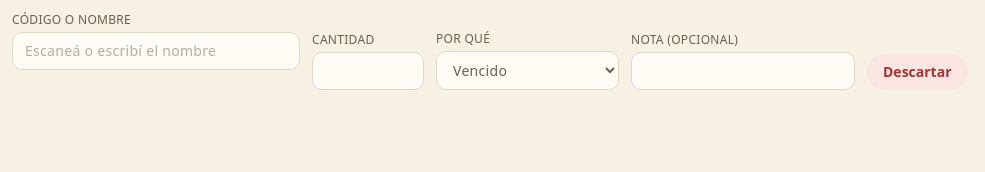
Test: FormularioDescarte › buscar por nombre deja cargado el código del elegido y pasa a la cantidad
The width and height of the screenshot is (985, 172).
In the field labelled "Código o nombre": x=156, y=51 [12,32,300,70], type "cucu"
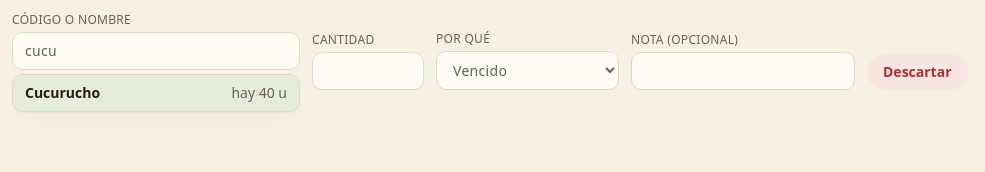
Press Enter in the field labelled "Código o nombre", box [12,32,300,70]
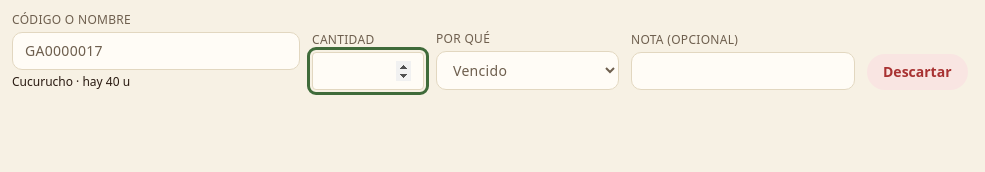
Expected: the text "Cucurucho · hay 40 u" is shown, [12,73,130,90]
In the number field labelled "Cantidad": x=368, y=71 [312,52,424,90], type "2"
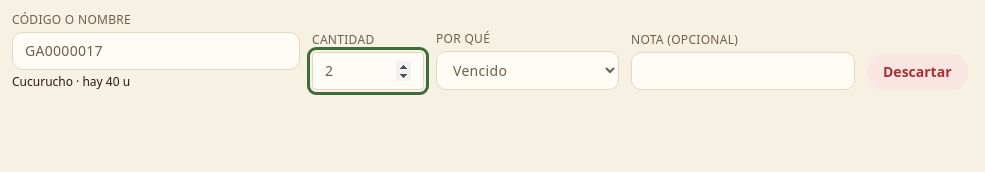
Submit the form "Descartar", box [12,11,968,90]
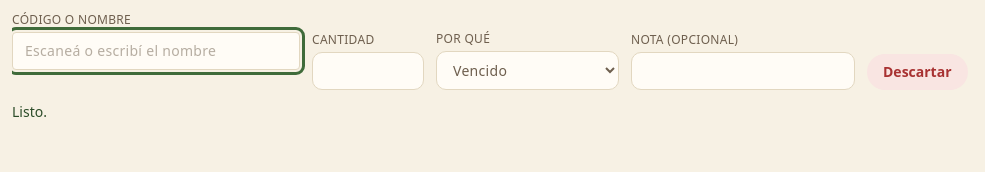
Expected: the field labelled "Código o nombre" is empty, [12,32,300,70]
Expected: the text "hay 40 u" is gone
